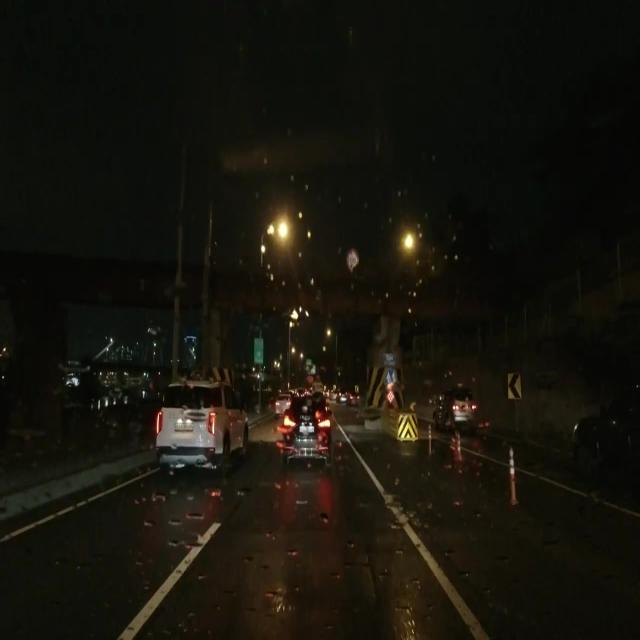Car: (153, 381, 248, 474), (570, 385, 639, 479), (281, 388, 328, 467), (436, 386, 475, 431)
